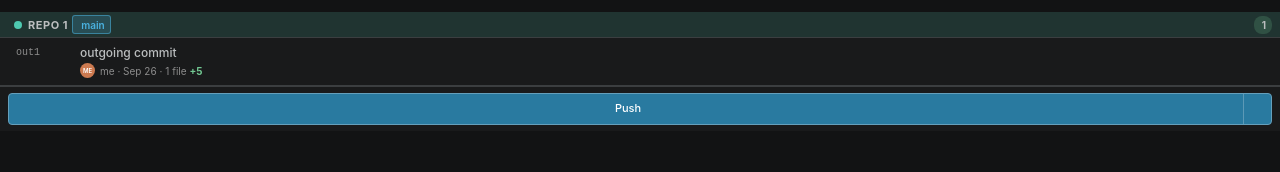
Test case: SyncPanel footer parity with plugin › keeps footer and repository actions enabled during automatic fetch (1/0)
The image size is (1280, 172).
Expected: the button with class "sync-primary-action" is enabled, [9,94,1243,124]
Expected: the button with class "sync-primary-more" is enabled, [1243,94,1271,124]
Right-click the header with class "sync-repo-heading" at (640, 25), box [0,12,1279,38]
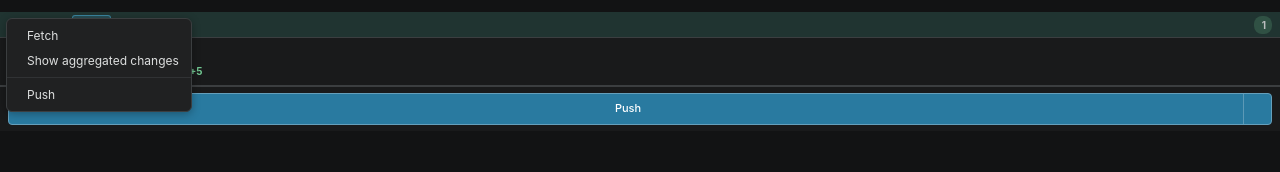
Now the menu item "Fetch" is enabled, box [7,23,191,48]
Now the menu item "Push" is enabled, box [7,82,191,107]
